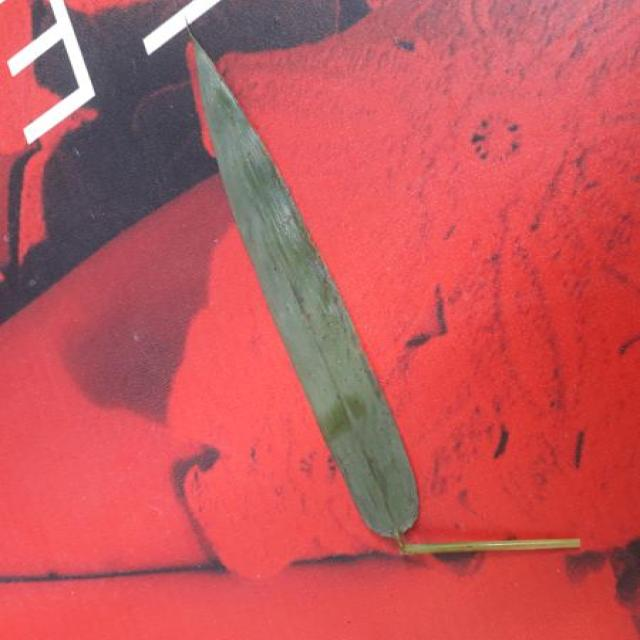defectedBamboo: (189, 30, 418, 541)
